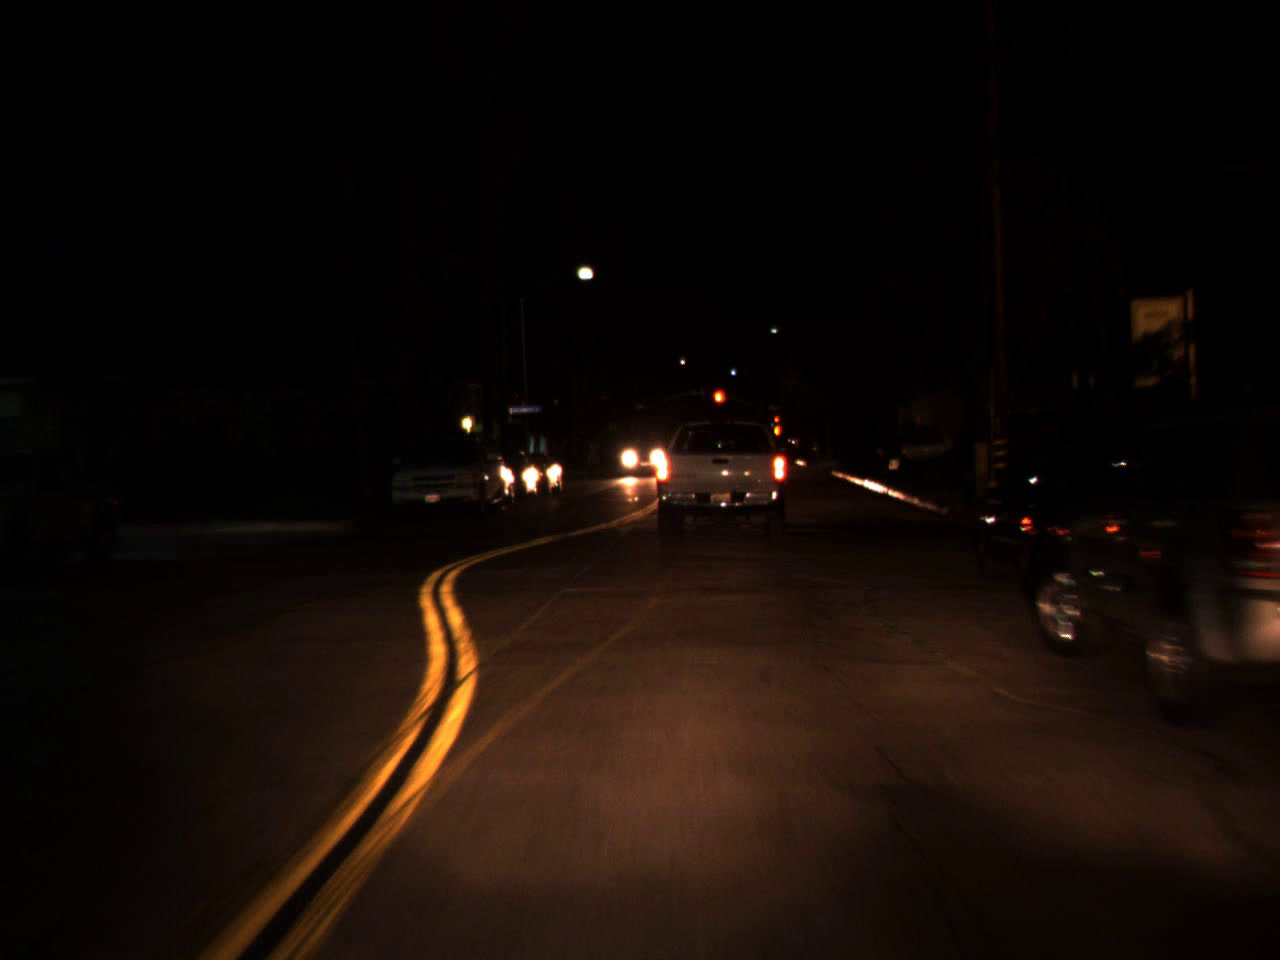stop: (711, 389, 724, 416), (773, 417, 779, 427)
